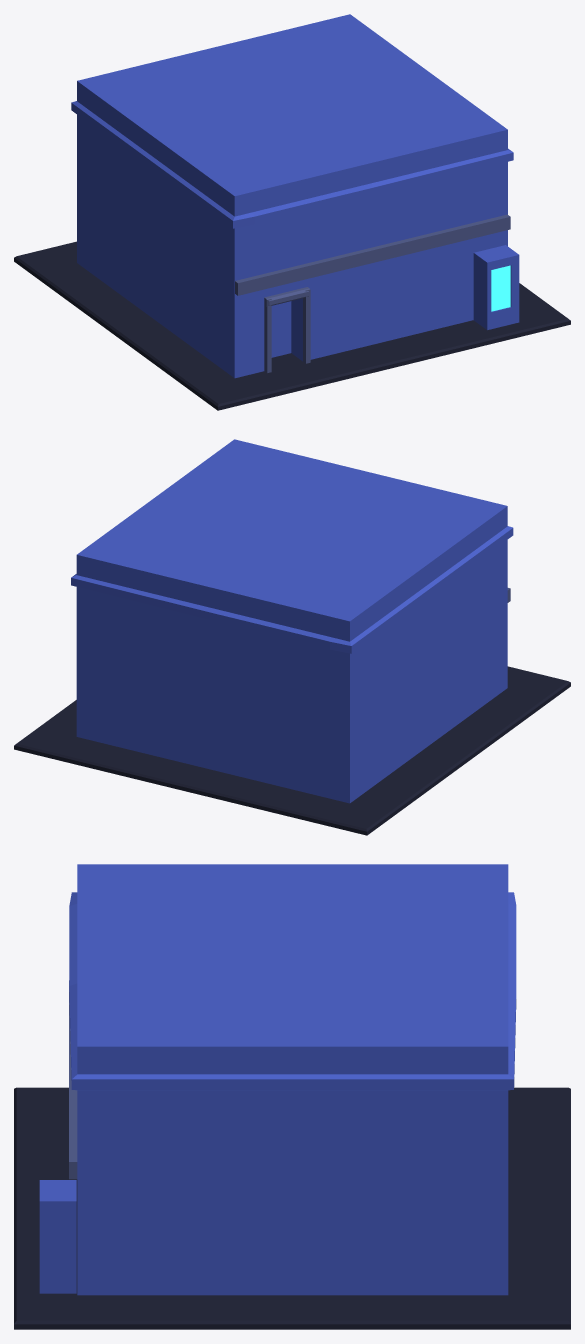
The picture shows the model from 3 angles, top to bottom: view 1: azimuth 30°, elevation 25°; view 2: azimuth 150°, elevation 25°; view 3: azimuth 270°, elevation 25°; orthographic projection. The views are drawn at different scales.
Visible parts, largest first — view 1: Cube, Cube.001, Cube.006, Cube.007, Cube.008, Cube.004, Cube.005; view 2: Cube, Cube.001; view 3: Cube, Cube.001, Cube.007, Cube.006.
Part boxes in pixels (x1=…): Cube: x1=71, y1=14, x2=513, y2=378; Cube.001: x1=14, y1=241, x2=570, y2=410; Cube.006: x1=235, y1=214, x2=510, y2=295; Cube.007: x1=473, y1=245, x2=519, y2=330; Cube.008: x1=491, y1=265, x2=510, y2=311; Cube.004: x1=264, y1=299, x2=271, y2=373; Cube.005: x1=303, y1=289, x2=310, y2=363; Cube: x1=71, y1=439, x2=513, y2=803; Cube.001: x1=14, y1=666, x2=570, y2=835; Cube: x1=69, y1=864, x2=516, y2=1295; Cube.001: x1=14, y1=1087, x2=570, y2=1329; Cube.007: x1=39, y1=1180, x2=76, y2=1293; Cube.006: x1=69, y1=980, x2=77, y2=1179.
Size of what is drawn, in the model's own units: 16.11 by 8.18 by 16.11.
